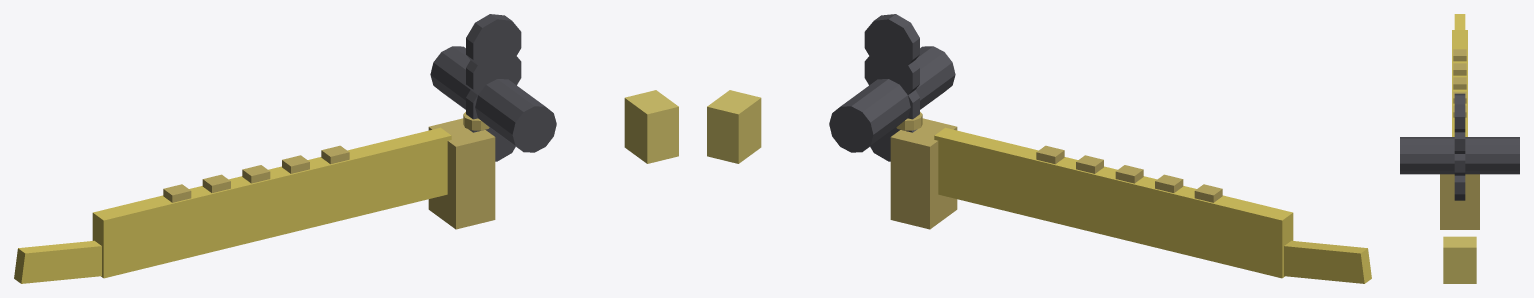
File: gunes_bicak.glb
3 renders of one model, left to right at view 1: azimuth 30°, elevation 25°; view 2: azimuth 150°, elevation 25°; view 3: azimuth 270°, elevation 25°, orthographic. The views are drawn at different scales.
Visible parts, largest first — view 1: geometry_0; view 2: geometry_0; view 3: geometry_0.
Boxes of the visible parts, box(x1,y1,x2,y2) form: geometry_0: box(14, 14, 678, 283); geometry_0: box(707, 14, 1371, 283); geometry_0: box(1400, 14, 1519, 283).
Bounding box in the file's own units: 0.411 × 0.115 × 0.09.
